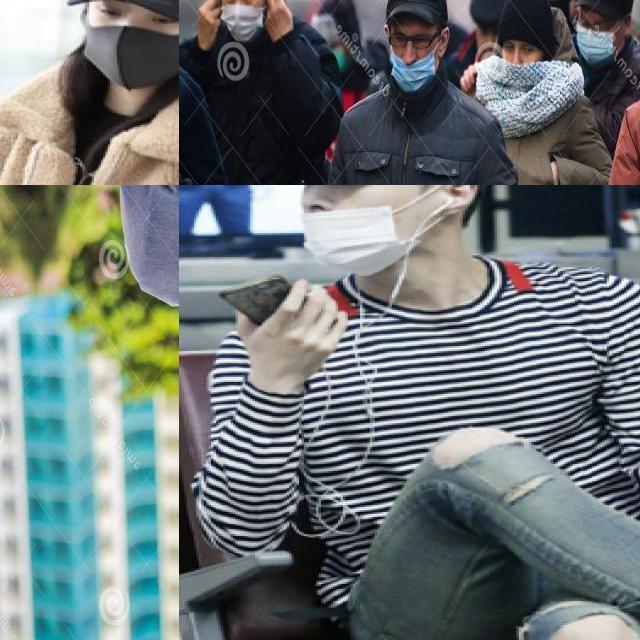hairnet: (296, 185, 397, 272), (392, 44, 433, 84)
